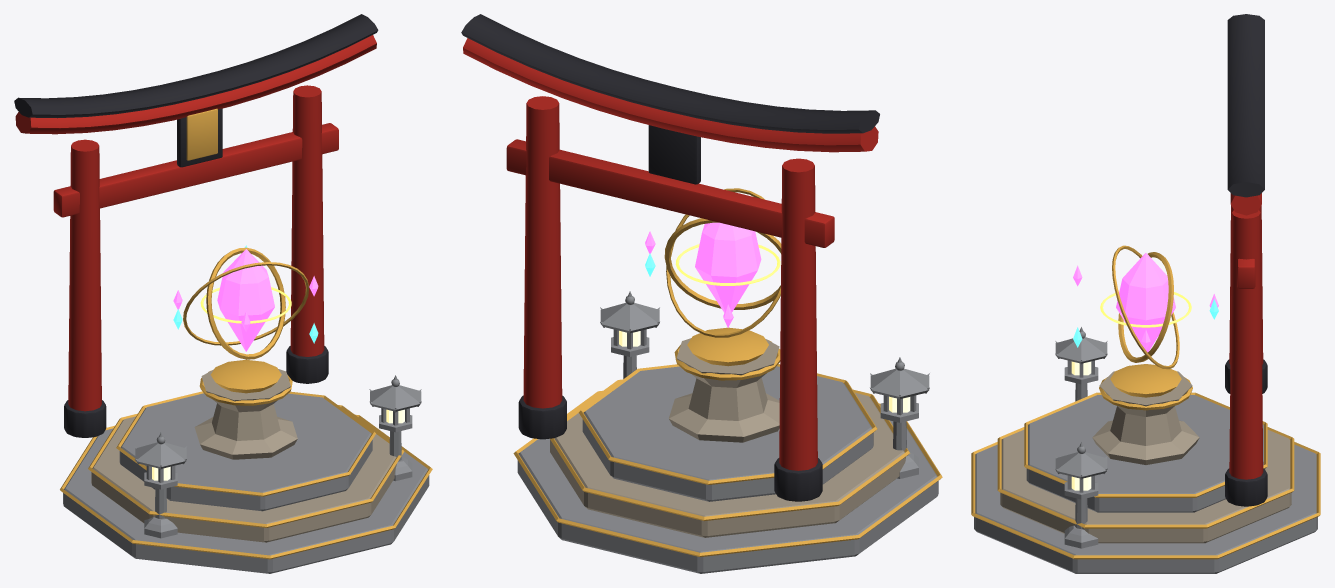
File: gacha_shrine.glb
The picture shows the model from 3 angles, left to right: view 1: azimuth 30°, elevation 25°; view 2: azimuth 150°, elevation 25°; view 3: azimuth 270°, elevation 25°; orthographic projection. The views are drawn at different scales.
Parts seen in each view (by area): view 1: gacha_shrine, gacha_crystal; view 2: gacha_shrine, gacha_crystal; view 3: gacha_shrine, gacha_crystal.
Part boxes in pixels (box(x1,y1,x2,y2)): gacha_shrine: box(14, 14, 432, 573); gacha_crystal: box(173, 245, 318, 359); gacha_shrine: box(461, 14, 942, 573); gacha_crystal: box(645, 188, 781, 337); gacha_shrine: box(971, 14, 1320, 573); gacha_crystal: box(1073, 245, 1218, 369).
Size of the model in its own units: 5.68 by 6.23 by 4.88.
